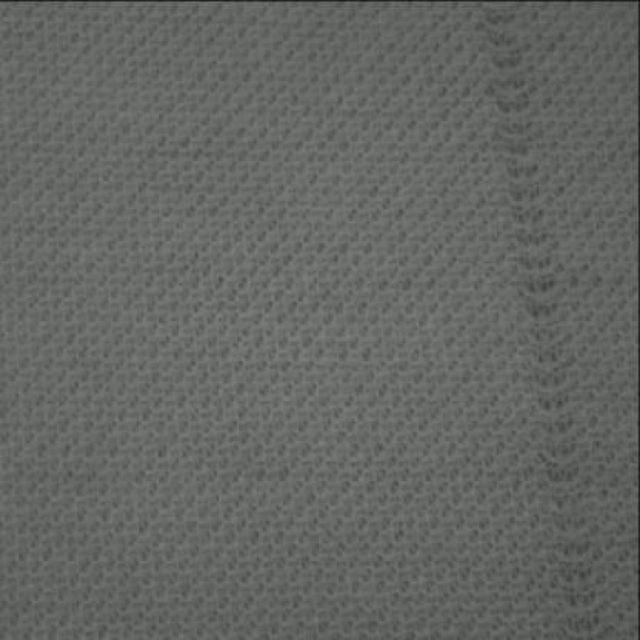Line: (484, 6, 606, 639)
